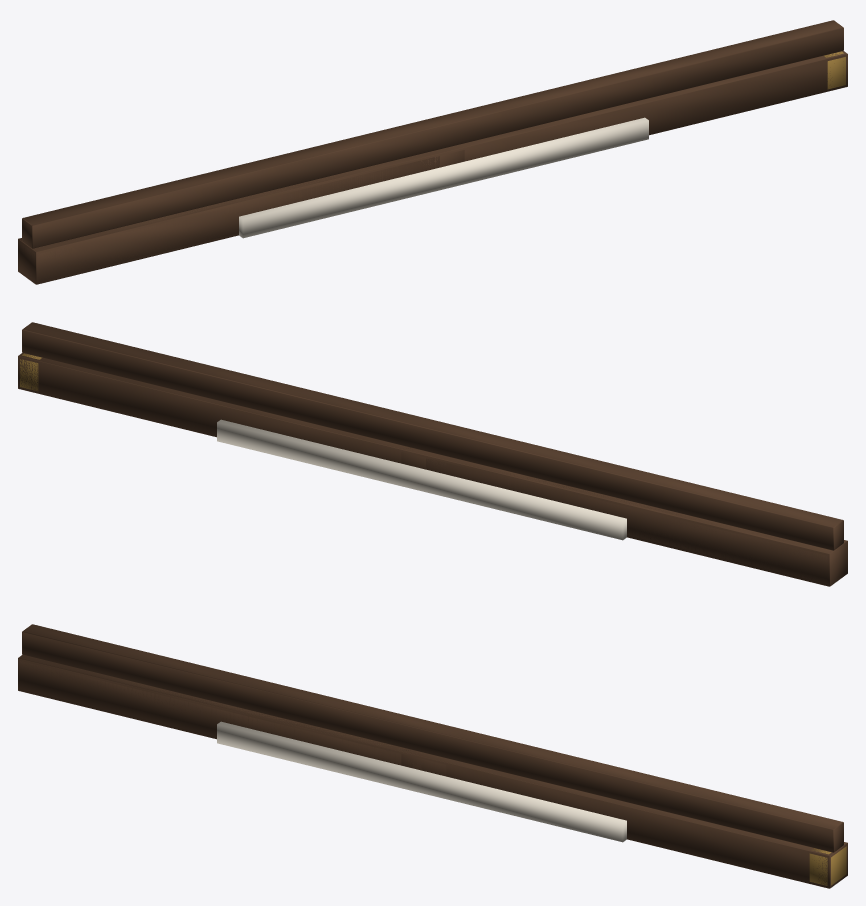
Rendered from asset_058_ceiling_and_beam_kit.glb.
3 renders of one model, top to bottom at view 1: azimuth 30°, elevation 25°; view 2: azimuth 150°, elevation 25°; view 3: azimuth 330°, elevation 25°, orthographic.
Visible parts, largest first — view 1: MESH_DarkWalnutScarfJointBeam, MESH_BeamHalf, MESH_CeilingPanel, MESH_BeamEndCap; view 2: MESH_DarkWalnutScarfJointBeam, MESH_CeilingPanel, MESH_BeamHalf, MESH_BeamEndCap; view 3: MESH_DarkWalnutScarfJointBeam, MESH_CeilingPanel, MESH_BeamHalf, MESH_BeamEndCap, MESH_BeamCrossConnector.
Part boxes in pixels (left/top/right/bottom): MESH_DarkWalnutScarfJointBeam: left=18, top=20, right=847, bottom=284; MESH_BeamHalf: left=19, top=156, right=439, bottom=281; MESH_CeilingPanel: left=239, top=117, right=648, bottom=238; MESH_BeamEndCap: left=824, top=51, right=845, bottom=89; MESH_DarkWalnutScarfJointBeam: left=18, top=322, right=847, bottom=586; MESH_CeilingPanel: left=217, top=419, right=626, bottom=540; MESH_BeamHalf: left=426, top=458, right=846, bottom=583; MESH_BeamEndCap: left=20, top=353, right=41, bottom=391; MESH_DarkWalnutScarfJointBeam: left=18, top=624, right=847, bottom=888; MESH_CeilingPanel: left=217, top=721, right=626, bottom=842; MESH_BeamHalf: left=20, top=655, right=421, bottom=770; MESH_BeamEndCap: left=809, top=846, right=846, bottom=885; MESH_BeamCrossConnector: left=401, top=750, right=446, bottom=776.
Bounding box in the file's own units: 3.6 × 0.24 × 0.2.
5 materials, 1 textured.
